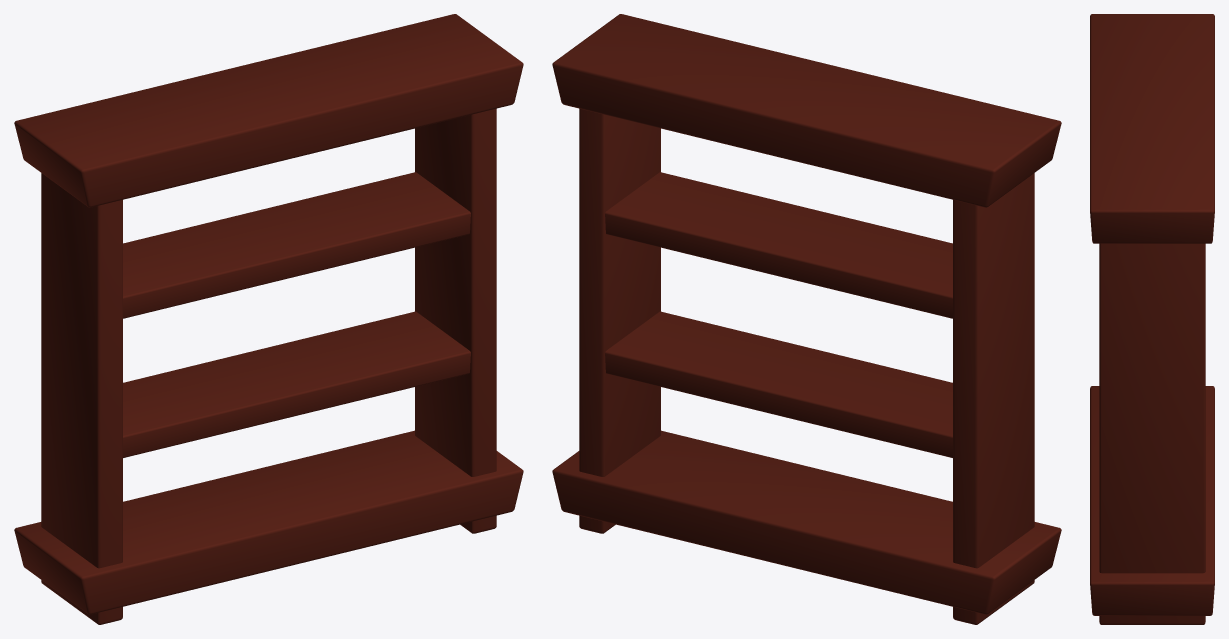
Rendered from bookcaseWide.obj.
3 renders of one model, left to right at view 1: azimuth 30°, elevation 25°; view 2: azimuth 150°, elevation 25°; view 3: azimuth 270°, elevation 25°, orthographic. The views are drawn at different scales.
Visible parts, largest first — view 1: bookcaseWide_Cube.4085; view 2: bookcaseWide_Cube.4085; view 3: bookcaseWide_Cube.4085.
Boxes of the visible parts, bbox=[...] form: bookcaseWide_Cube.4085: bbox=[14, 14, 523, 624]; bookcaseWide_Cube.4085: bbox=[552, 14, 1061, 624]; bookcaseWide_Cube.4085: bbox=[1090, 14, 1214, 624].
Size of the model in its own units: 1.99 by 2 by 0.5333.
